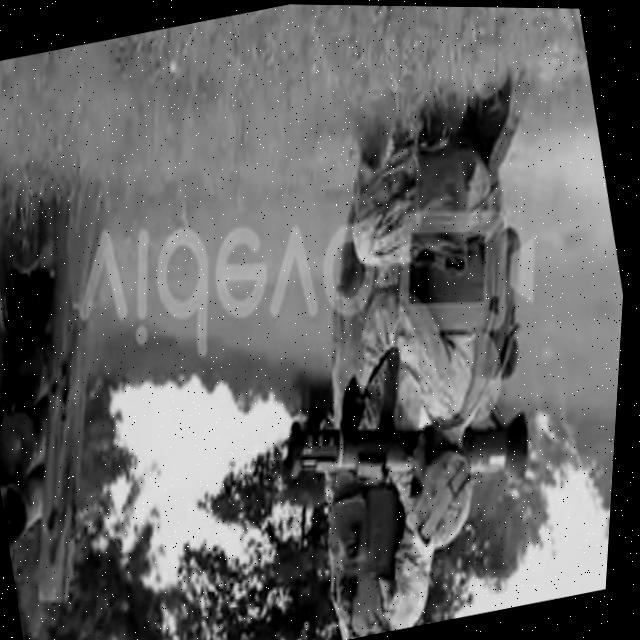rocket: (280, 369, 549, 521)
